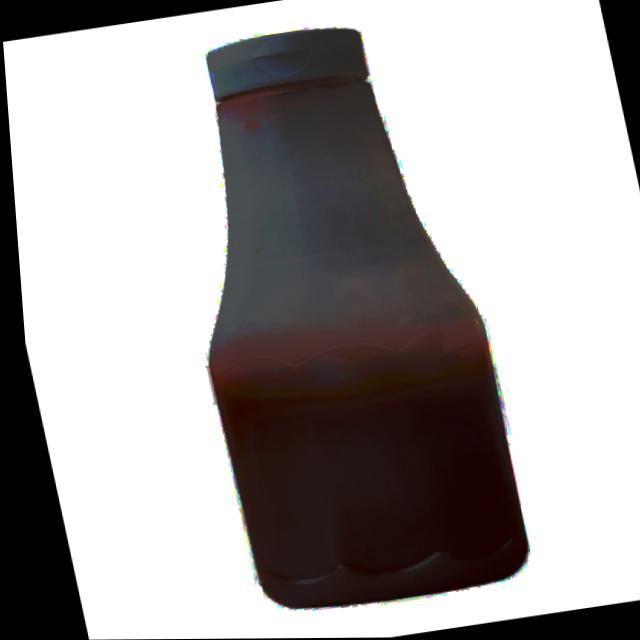ketchup: (132, 12, 550, 624)
